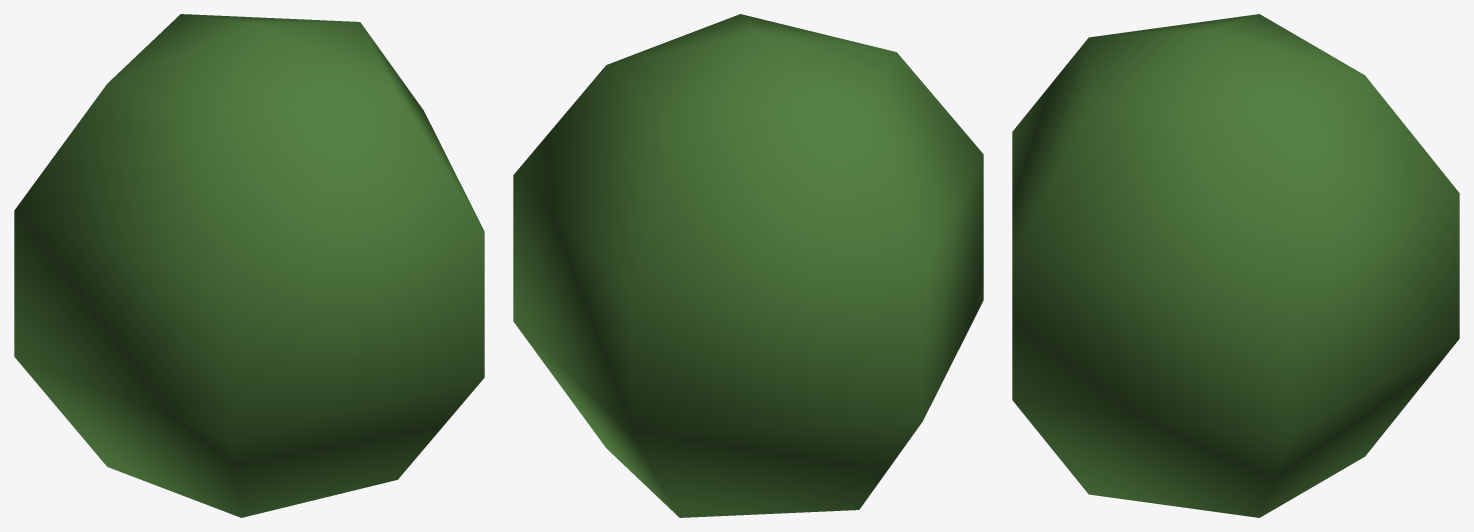
The model's file is mela.fbx.
3 renders of one model, left to right at view 1: azimuth 30°, elevation 25°; view 2: azimuth 150°, elevation 25°; view 3: azimuth 270°, elevation 25°, orthographic.
Parts seen in each view (by area): view 1: Sphere.001; view 2: Sphere.001; view 3: Sphere.001.
Boxes of the visible parts, x1,y1,x2,y2 form: Sphere.001: (14, 14, 484, 517); Sphere.001: (513, 14, 983, 517); Sphere.001: (1012, 14, 1459, 517).
Size of the model in its own units: 5.8 by 6.42 by 5.52.
